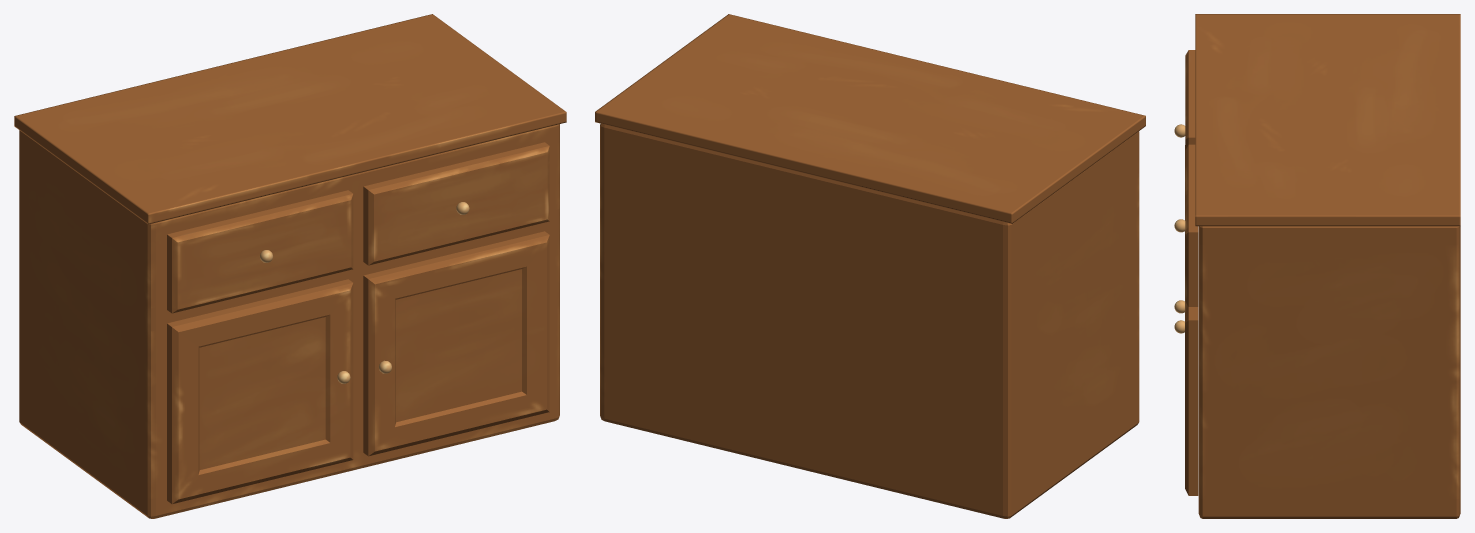
Rendered from Cabinet.fbx.
The picture shows the model from 3 angles, left to right: view 1: azimuth 30°, elevation 25°; view 2: azimuth 150°, elevation 25°; view 3: azimuth 270°, elevation 25°; orthographic projection.
Parts seen in each view (by area): view 1: Cabinet Base, Cube.009, Cabinet Door L, Cabinet Door R, Cabinet Drawer R, Cabinet Drawer L; view 2: Cabinet Base, Cube.009; view 3: Cabinet Base, Cube.009, Cabinet Door L, Cabinet Drawer L, Cabinet Drawer R.
Part boxes in pixels (left/top/right/bottom): Cabinet Base: left=19, top=124, right=559, bottom=518; Cube.009: left=14, top=14, right=566, bottom=224; Cabinet Door L: left=363, top=231, right=549, bottom=456; Cabinet Door R: left=167, top=279, right=353, bottom=503; Cabinet Drawer R: left=167, top=190, right=353, bottom=313; Cabinet Drawer L: left=363, top=142, right=549, bottom=265; Cabinet Base: left=600, top=123, right=1139, bottom=518; Cube.009: left=595, top=14, right=1145, bottom=223; Cabinet Base: left=1198, top=226, right=1460, bottom=518; Cube.009: left=1195, top=14, right=1460, bottom=226; Cabinet Door L: left=1185, top=240, right=1198, bottom=495; Cabinet Drawer L: left=1185, top=144, right=1198, bottom=306; Cabinet Drawer R: left=1185, top=50, right=1195, bottom=149.
Bounding box in the file's own units: 160 × 113 × 95.83.
